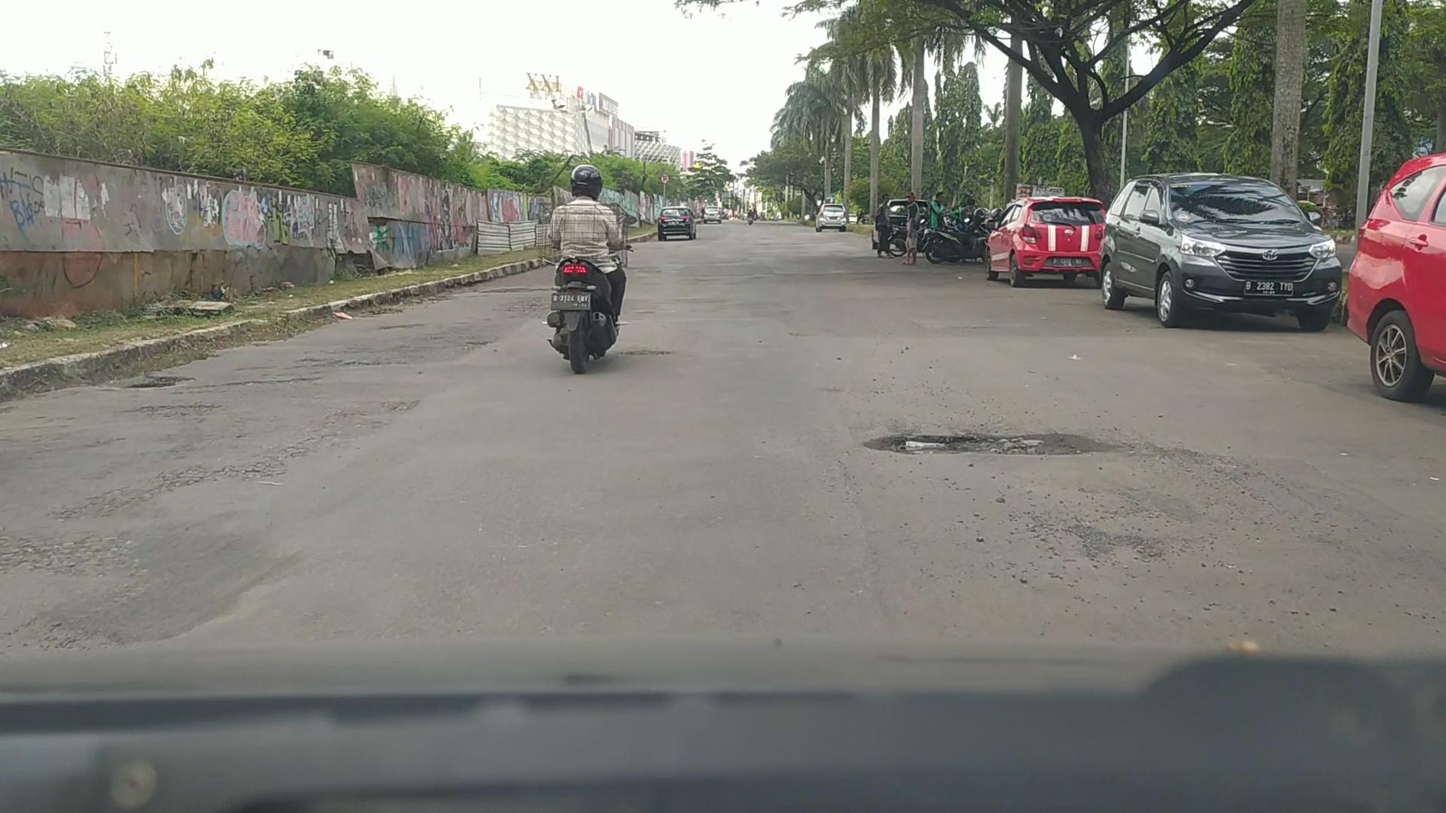pothole: (865, 432, 1091, 457)
